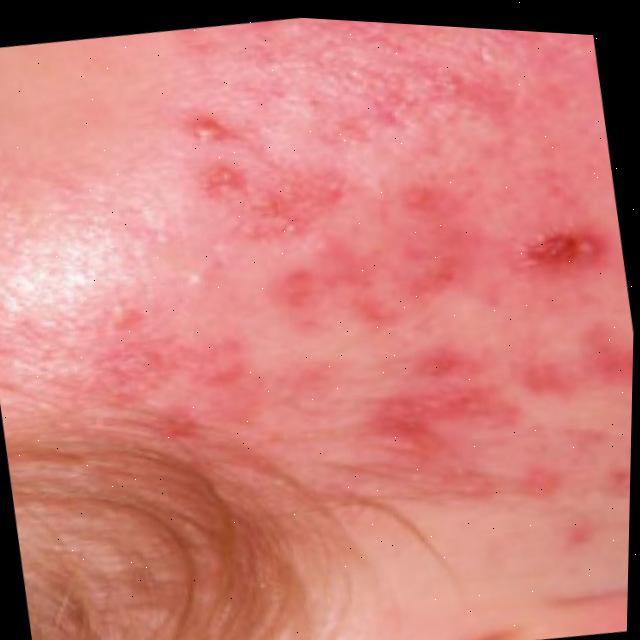Acne: (31, 3, 640, 633)
